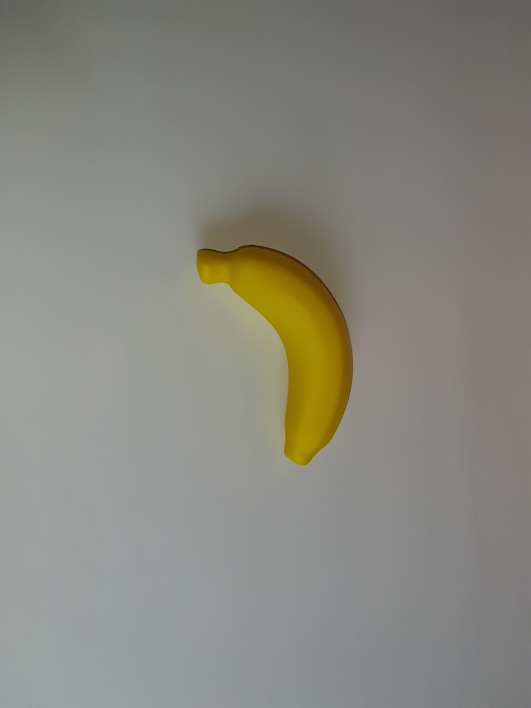banana: (198, 244, 347, 328)
